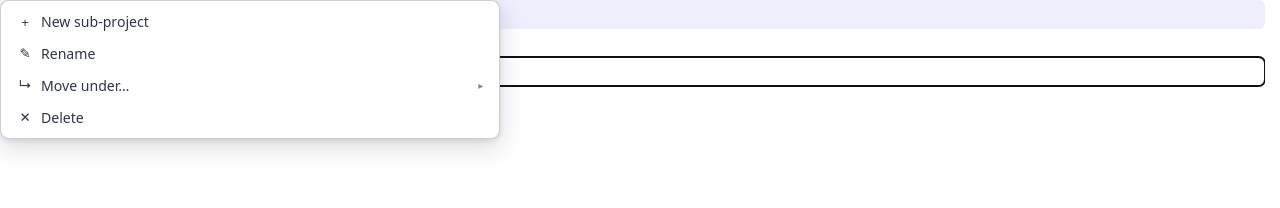
ProjectTree smoke test › 'Move under…' submenu excludes the project itself and its descendants (no cycle)
This screenshot has width=1280, height=208.
What coordinates should you click on to do the following:
click the menu item "↳ Move under… ▸"
I would click on:
 (85, 85)
Its box is [6,69,494,101].
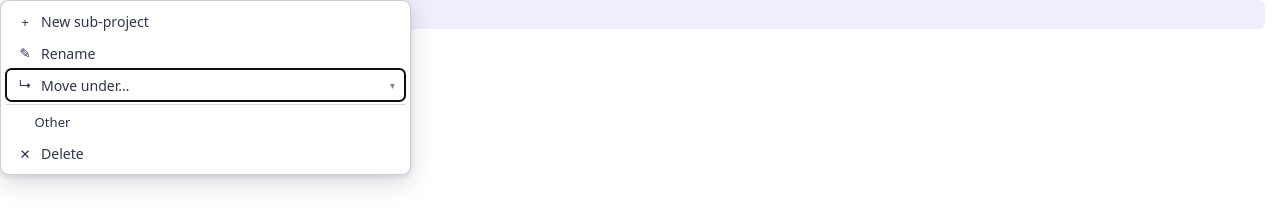
Expected: the menu item "Other" is shown, [6,107,405,138]
